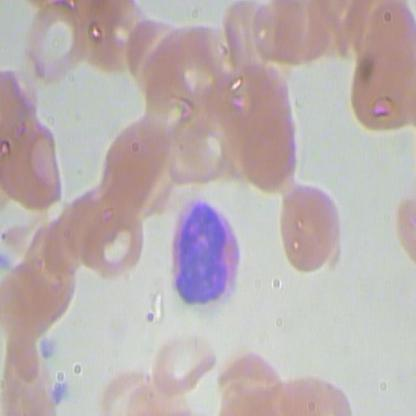Platelets: (50, 374, 67, 409), (40, 335, 57, 360)
RBC: (268, 175, 349, 275), (1, 120, 70, 216), (22, 2, 94, 87), (239, 107, 311, 192), (159, 107, 231, 192), (79, 205, 151, 289), (342, 49, 414, 133), (148, 322, 220, 396), (1, 260, 60, 341), (272, 1, 334, 68)
WBC: (165, 195, 248, 321)
